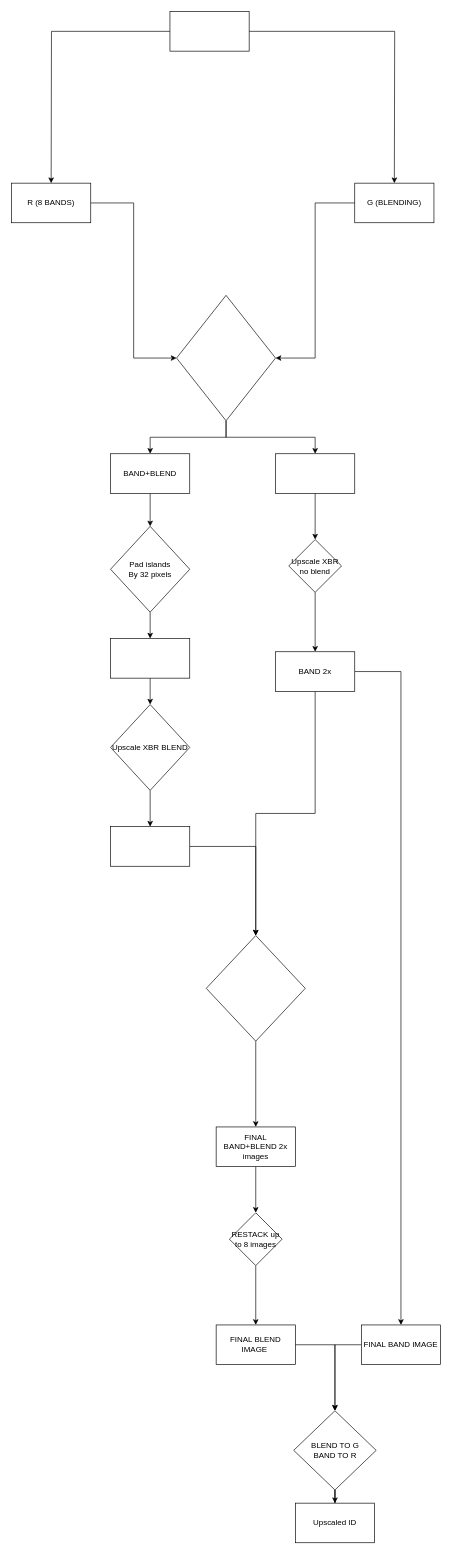
This 452x1554 diagram has some shape labels left out. The shapes that lost their labels are listed below. From the top down, each one's centre as x and y in pixels, then its label:
At [209,31]: "ID".
At [226,358]: "create up to 8 images where BAND = ALPHA BLENDING = RGB".
At [315,473]: "BAND".
At [150,658]: "BAND+BLEND w/padding".
At [150,846]: "BAND+BLEND w/padding 2x".
At [255,988]: "REPLACE BAND+BLEND w/padding 2x's alpha with BAND 2x.".
